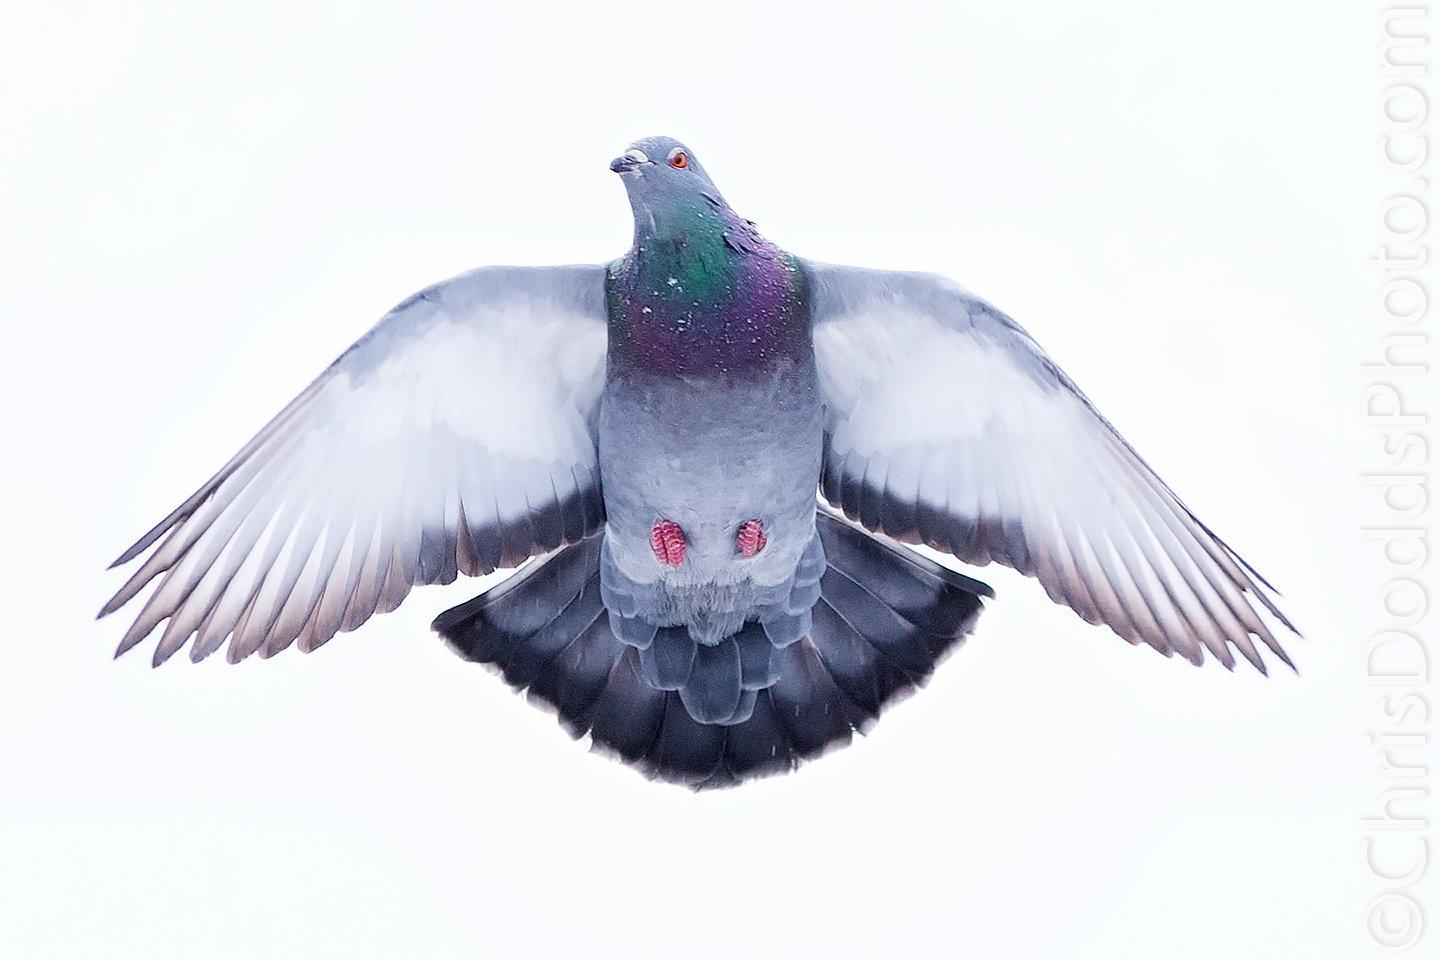Flying Rat: (103, 130, 1292, 786)
